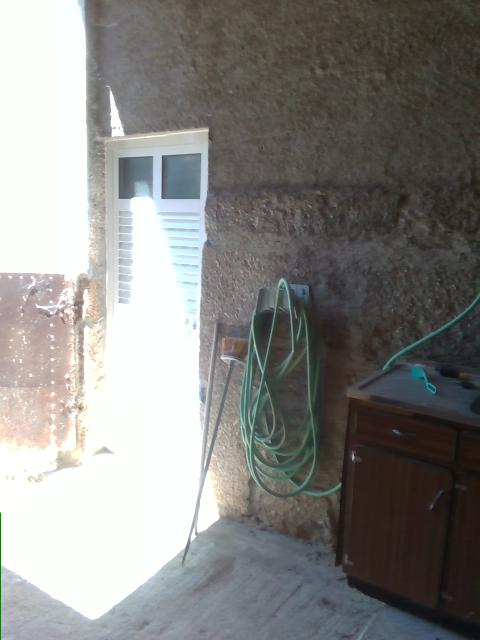door: (98, 128, 206, 486)
